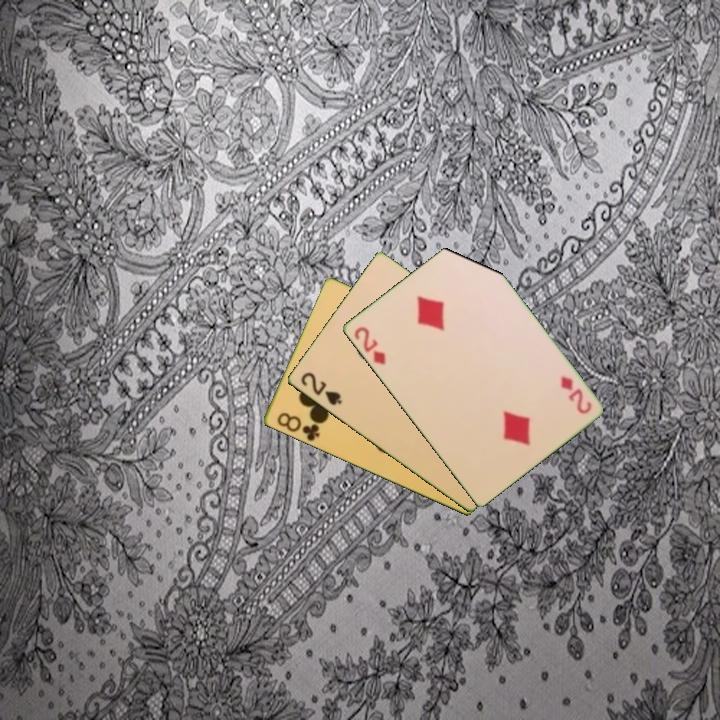2d: (350, 323, 388, 368), (557, 372, 594, 417)
2s: (297, 369, 345, 409)
8c: (273, 409, 323, 444)
